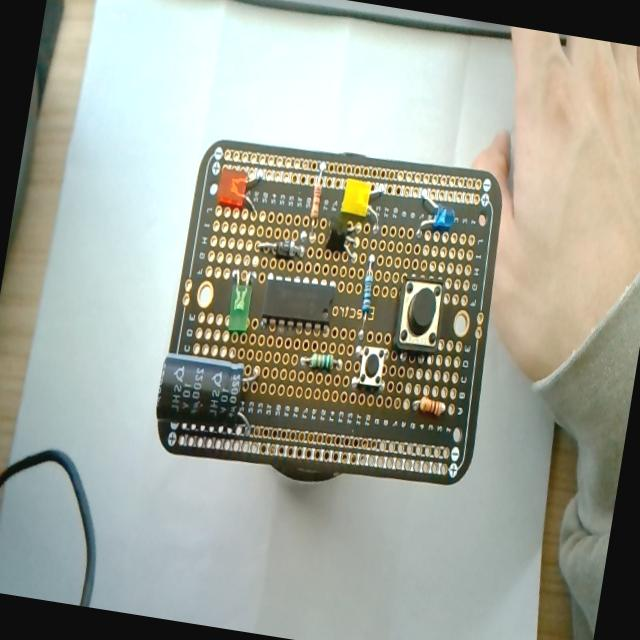Electrolytic capacitor: (153, 350, 264, 442)
IC: (258, 270, 338, 336)
diode: (258, 233, 305, 260)
led: (219, 263, 261, 341), (216, 166, 264, 217), (416, 191, 458, 239), (344, 182, 386, 227)
resistor: (354, 254, 380, 338), (305, 166, 327, 242), (299, 349, 342, 374), (414, 396, 446, 418)
switch: (393, 277, 446, 355), (350, 344, 390, 394)
transistor: (316, 214, 364, 260)
